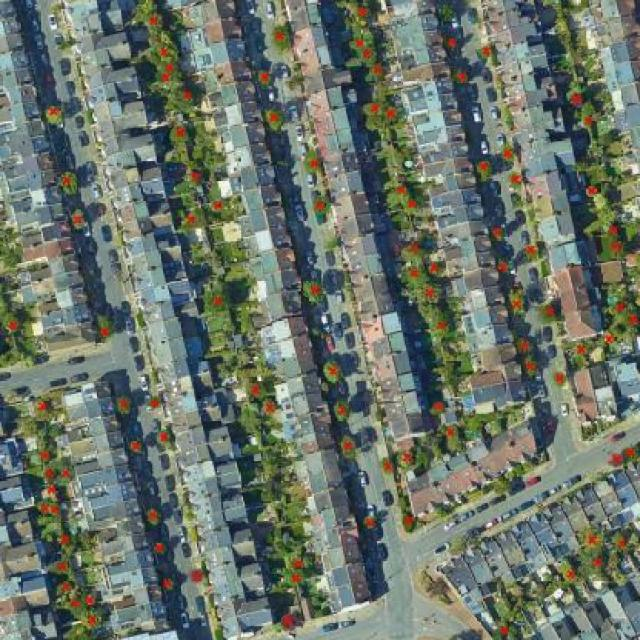tree: (136, 29, 189, 66), (162, 80, 208, 118), (422, 305, 464, 340), (131, 0, 169, 37), (263, 17, 299, 55), (316, 352, 350, 392), (402, 280, 453, 306), (390, 258, 435, 287), (572, 523, 608, 559), (303, 187, 339, 222), (199, 287, 233, 322), (298, 273, 328, 312), (497, 290, 534, 321), (107, 388, 139, 423), (300, 144, 329, 182), (64, 204, 96, 238), (435, 420, 467, 454), (464, 154, 498, 186), (258, 103, 288, 139), (576, 551, 616, 578), (164, 119, 196, 152), (549, 558, 582, 590), (90, 312, 121, 346), (271, 607, 307, 636), (39, 98, 70, 131), (336, 432, 364, 468), (532, 297, 566, 326), (47, 530, 82, 558), (391, 444, 423, 474), (362, 57, 395, 86), (46, 557, 80, 585), (59, 588, 86, 623), (326, 394, 357, 424), (54, 168, 83, 200), (173, 204, 205, 233), (179, 166, 212, 194), (561, 339, 597, 364), (246, 64, 277, 93), (382, 177, 421, 200), (29, 394, 57, 426), (238, 376, 270, 404), (380, 98, 408, 130), (421, 256, 453, 284), (82, 603, 106, 640), (0, 304, 26, 338), (607, 524, 633, 558), (342, 0, 380, 23), (258, 476, 288, 504), (203, 194, 234, 221), (352, 47, 386, 71), (424, 574, 454, 601), (34, 483, 69, 506), (488, 615, 520, 640), (340, 34, 378, 55), (141, 499, 165, 532), (563, 85, 591, 113), (422, 392, 448, 422), (438, 26, 464, 56), (446, 66, 476, 92), (396, 506, 421, 537), (120, 437, 152, 461), (279, 551, 312, 574), (152, 423, 178, 452), (546, 366, 571, 396), (482, 222, 510, 248), (58, 620, 94, 640), (508, 334, 538, 358), (396, 192, 427, 215), (500, 165, 528, 190), (147, 539, 176, 563), (279, 568, 310, 590), (16, 414, 42, 440), (517, 356, 543, 382), (595, 331, 623, 355), (621, 299, 640, 334), (577, 108, 601, 135), (604, 234, 628, 261), (146, 73, 180, 92), (398, 242, 428, 263), (517, 238, 541, 264), (152, 61, 188, 78), (0, 349, 25, 373), (495, 140, 519, 165), (356, 511, 378, 538), (154, 572, 180, 594), (375, 454, 397, 480), (360, 100, 386, 122), (474, 40, 498, 63), (57, 461, 77, 488), (601, 218, 627, 238), (600, 448, 623, 470), (494, 255, 514, 280), (31, 448, 58, 466), (144, 394, 167, 415), (611, 294, 631, 318), (54, 578, 75, 600), (260, 398, 282, 419), (37, 462, 61, 481), (187, 563, 205, 588), (82, 590, 104, 610), (48, 504, 68, 525), (622, 438, 638, 464), (581, 184, 604, 201), (21, 355, 41, 374), (32, 498, 51, 518)
